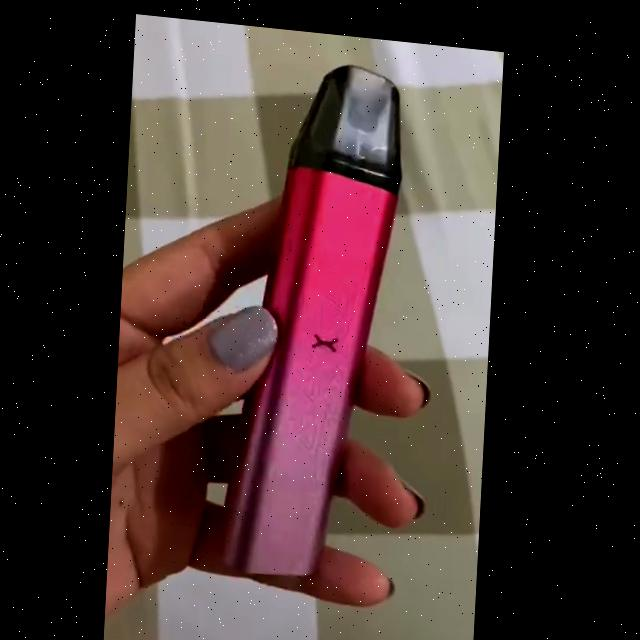vape: (227, 49, 411, 579)
